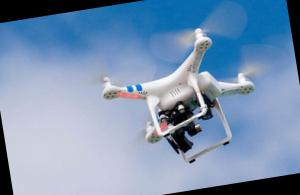drone: (80, 25, 276, 158)
